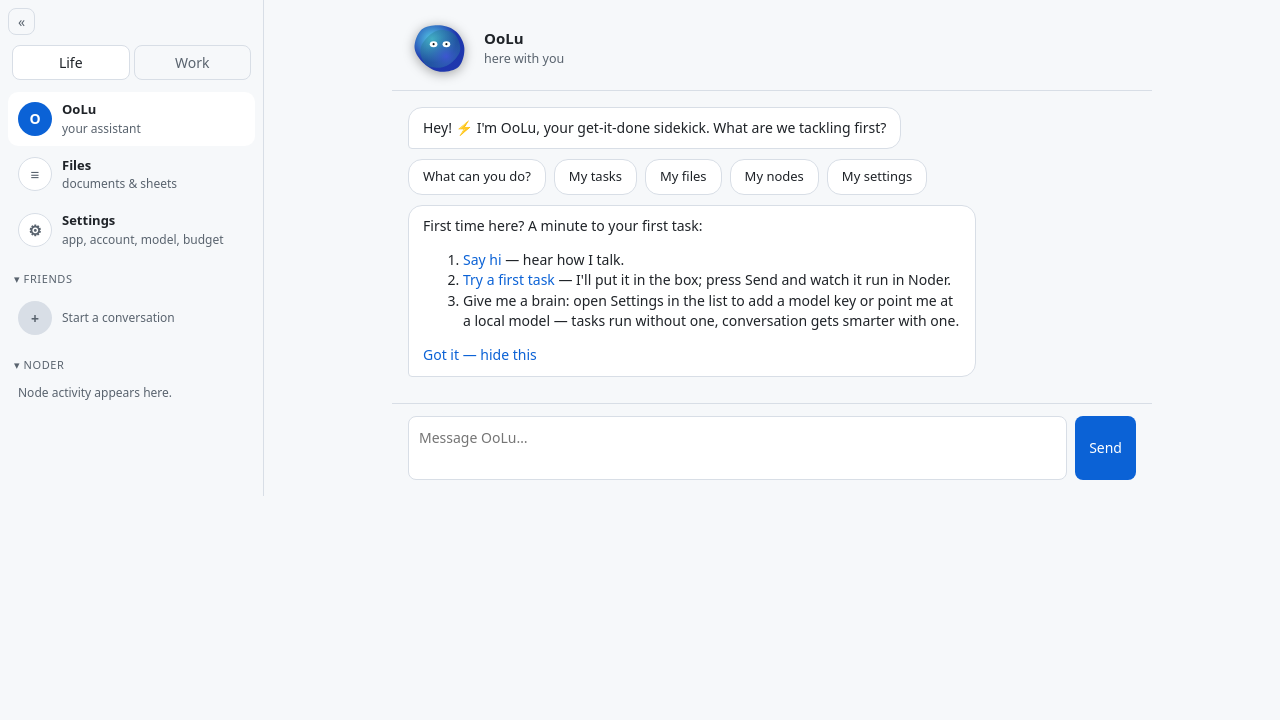
Scenario: Life › starts a conversation by exact name — no directory to browse
The width and height of the screenshot is (1280, 720).
Click the text "Start a conversation": click(118, 318) [62, 309, 175, 327]
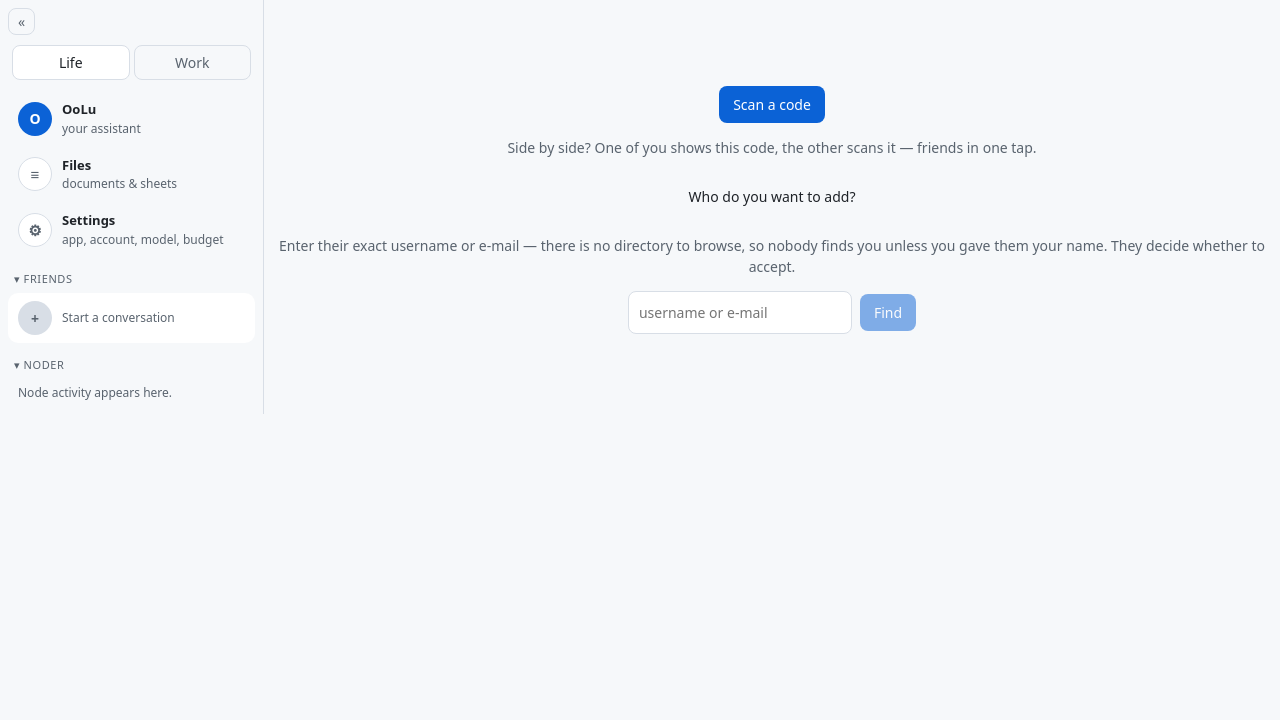
Expected: the text "no directory to browse" is shown, [279, 236, 1265, 276]
In the field labelled "username or e-mail": (740, 312) [628, 291, 852, 334], type "carol@mphepo.io"
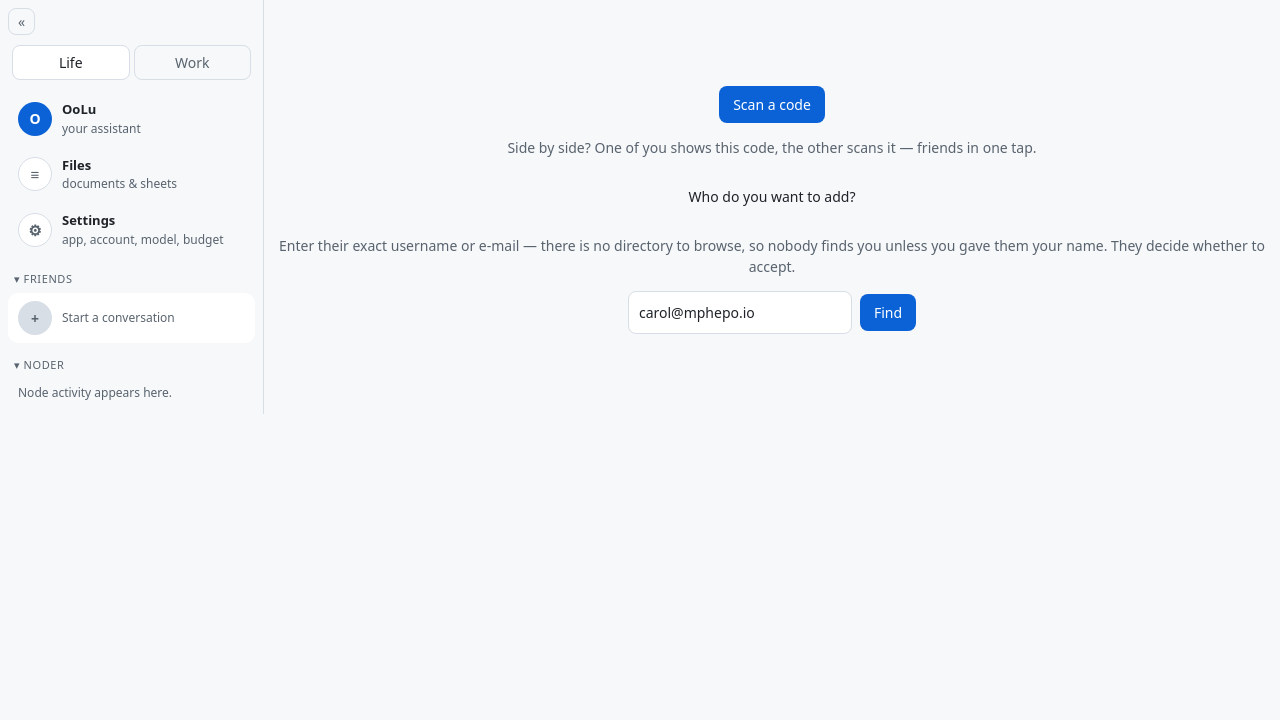
Click the button "Find": click(888, 312) [860, 294, 916, 331]
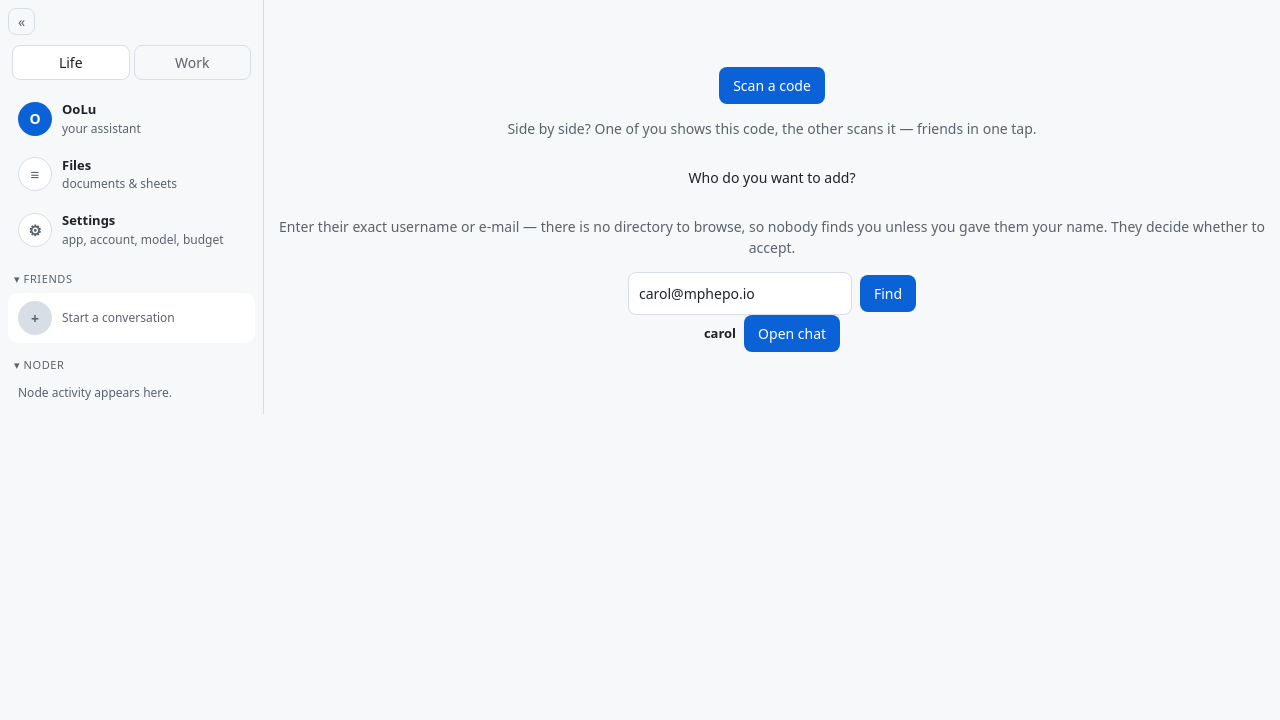
// An existing friend: Open chat leads into the thread.
Click the button "Open chat": click(792, 334) [744, 315, 840, 352]
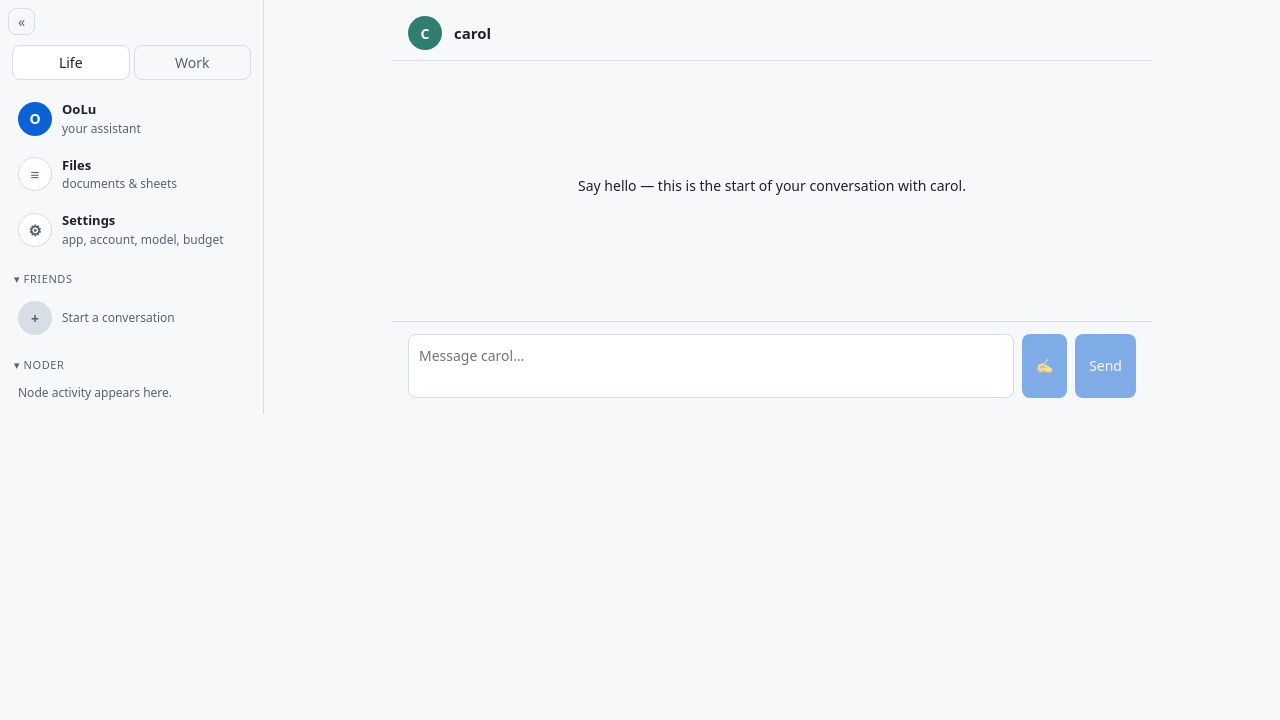
Expected: the text box with placeholder "Message carol…" is shown, [408, 334, 1014, 398]
